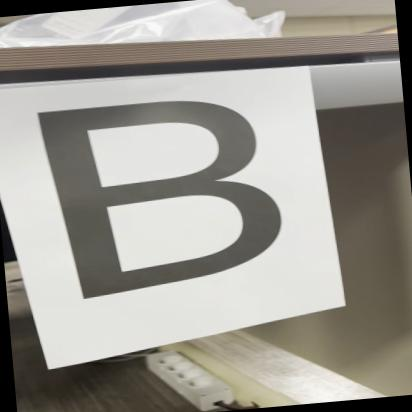seat: (27, 78, 286, 289)
